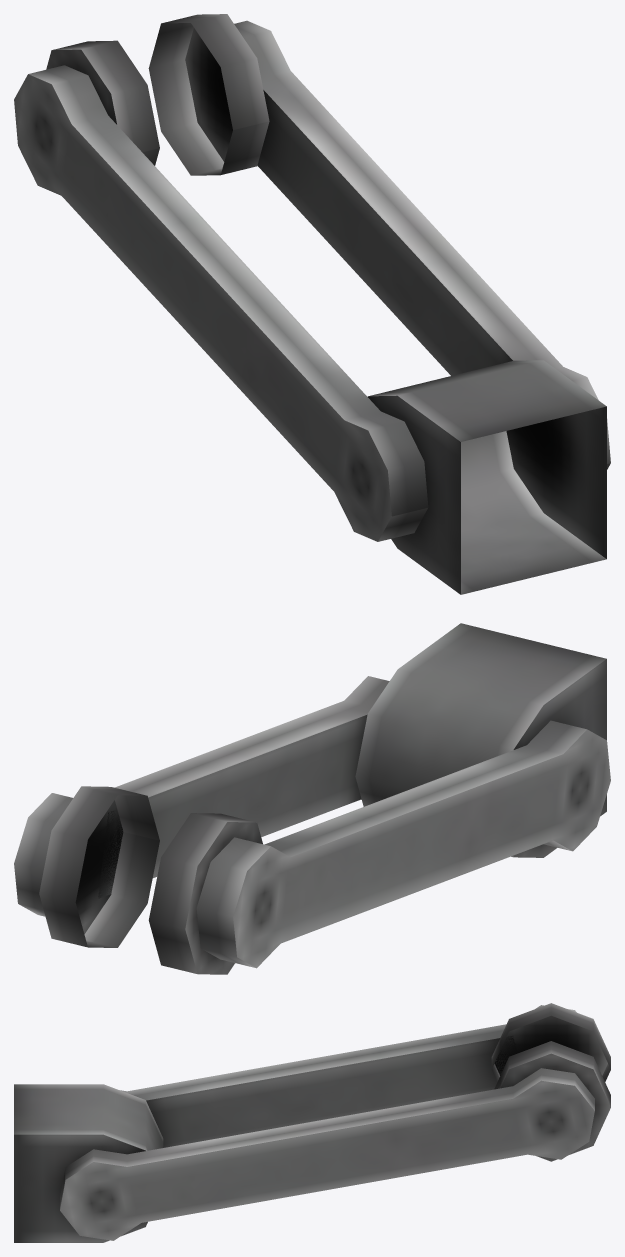
File: samplebase.obj
The picture shows the model from 3 angles, top to bottom: view 1: azimuth 30°, elevation 25°; view 2: azimuth 150°, elevation 25°; view 3: azimuth 270°, elevation 25°; orthographic projection. The views are drawn at different scales.
Visible parts, largest first — view 1: base1; view 2: base1; view 3: base1.
Boxes of the visible parts, left/top/right/bottom form: base1: left=14, top=14, right=610, bottom=594; base1: left=14, top=623, right=610, bottom=974; base1: left=14, top=1003, right=610, bottom=1242.
Bounding box in the file's own units: 0.075 × 0.0875 × 0.25.
1 material, 1 textured.
